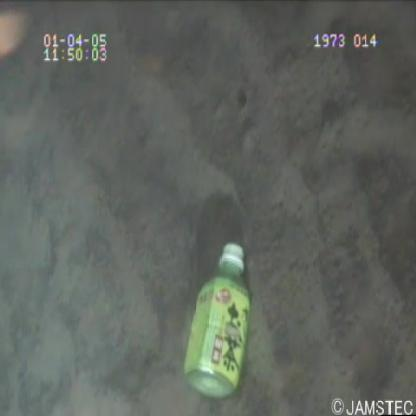Rác: (178, 232, 262, 406)
